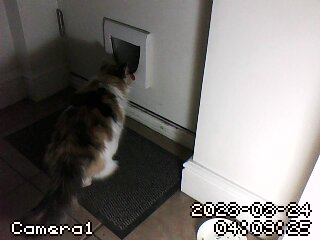clara: (42, 51, 137, 233)
